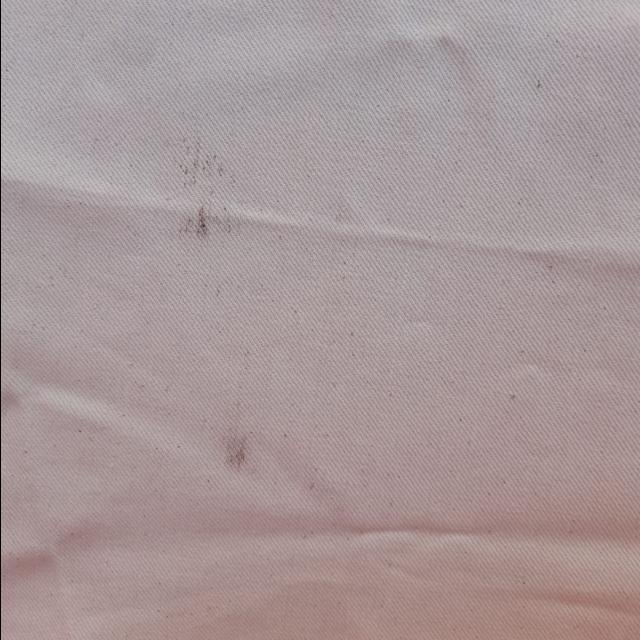taaaches: (156, 130, 246, 240), (206, 398, 272, 477)
